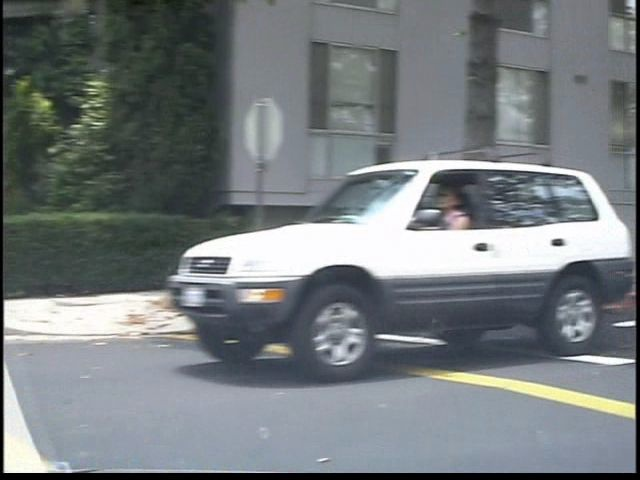person: (445, 174, 495, 360)
